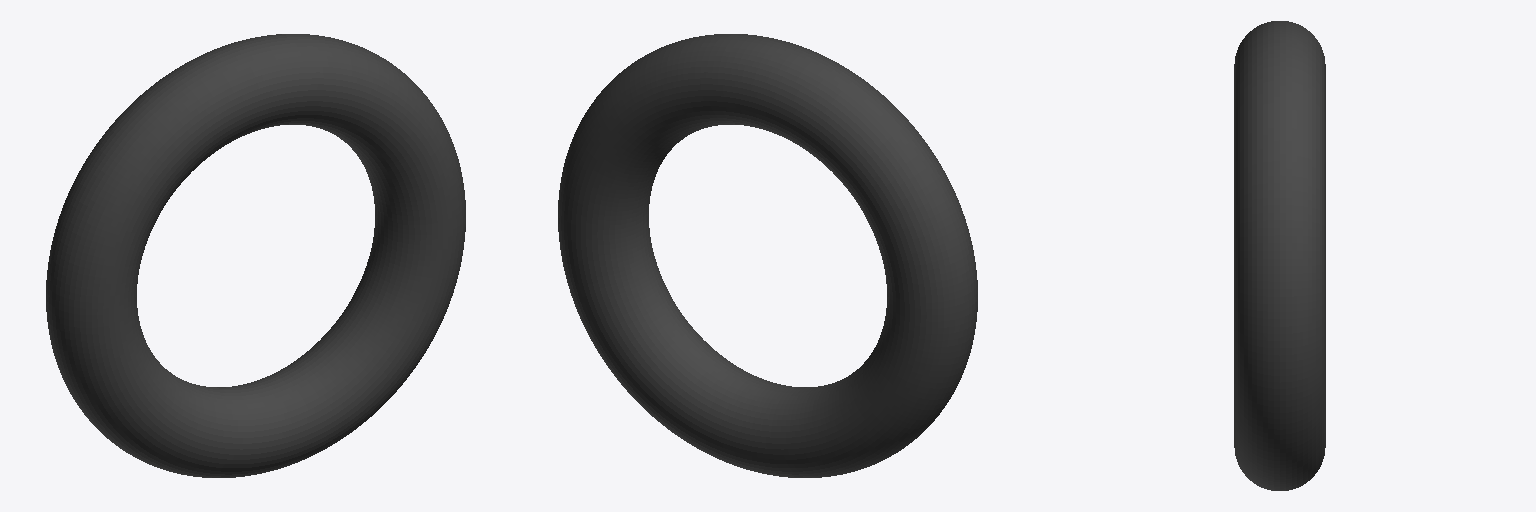
File: torusSmall.obj
The picture shows the model from 3 angles: view 1: azimuth 30°, elevation 25°; view 2: azimuth 150°, elevation 25°; view 3: azimuth 270°, elevation 25°; orthographic projection.
Visible parts, largest first — view 1: SmallTorus_Torus.002; view 2: SmallTorus_Torus.002; view 3: SmallTorus_Torus.002.
Part boxes in pixels (left/top/right/bottom): SmallTorus_Torus.002: left=46, top=34, right=465, bottom=477; SmallTorus_Torus.002: left=558, top=34, right=977, bottom=477; SmallTorus_Torus.002: left=1234, top=21, right=1325, bottom=490.
Size of the model in its own units: 1.24 by 1.24 by 0.2395.